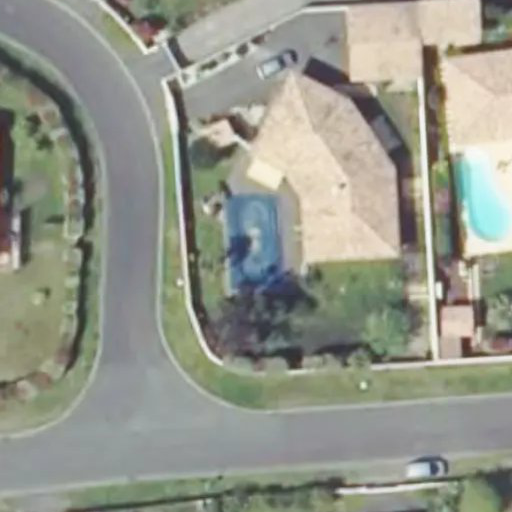pool: (227, 195, 285, 288), (454, 155, 512, 240)
